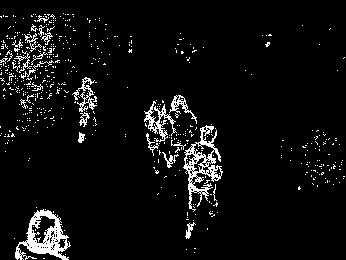person: (182, 124, 224, 240), (142, 97, 172, 175), (70, 76, 98, 143), (167, 93, 197, 153)
